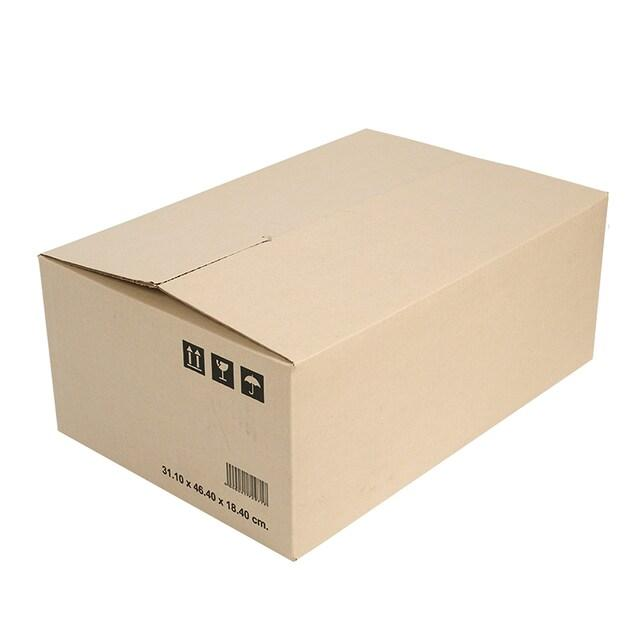box: (29, 114, 617, 560)
